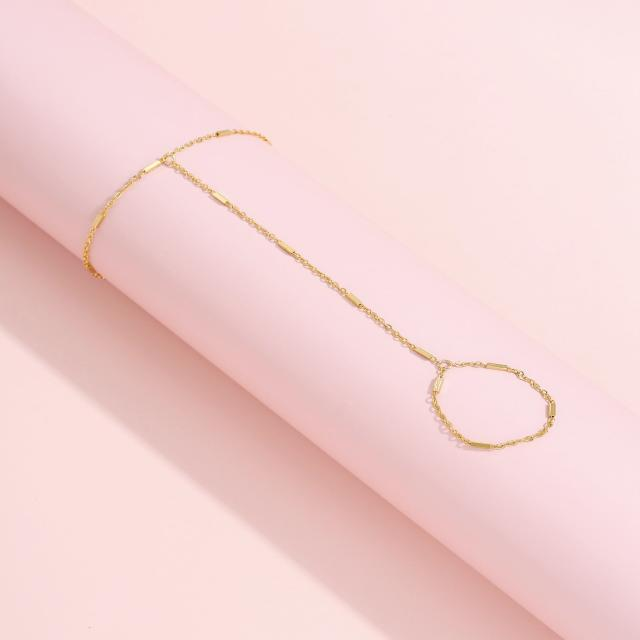bracelet: (30, 116, 640, 531)
